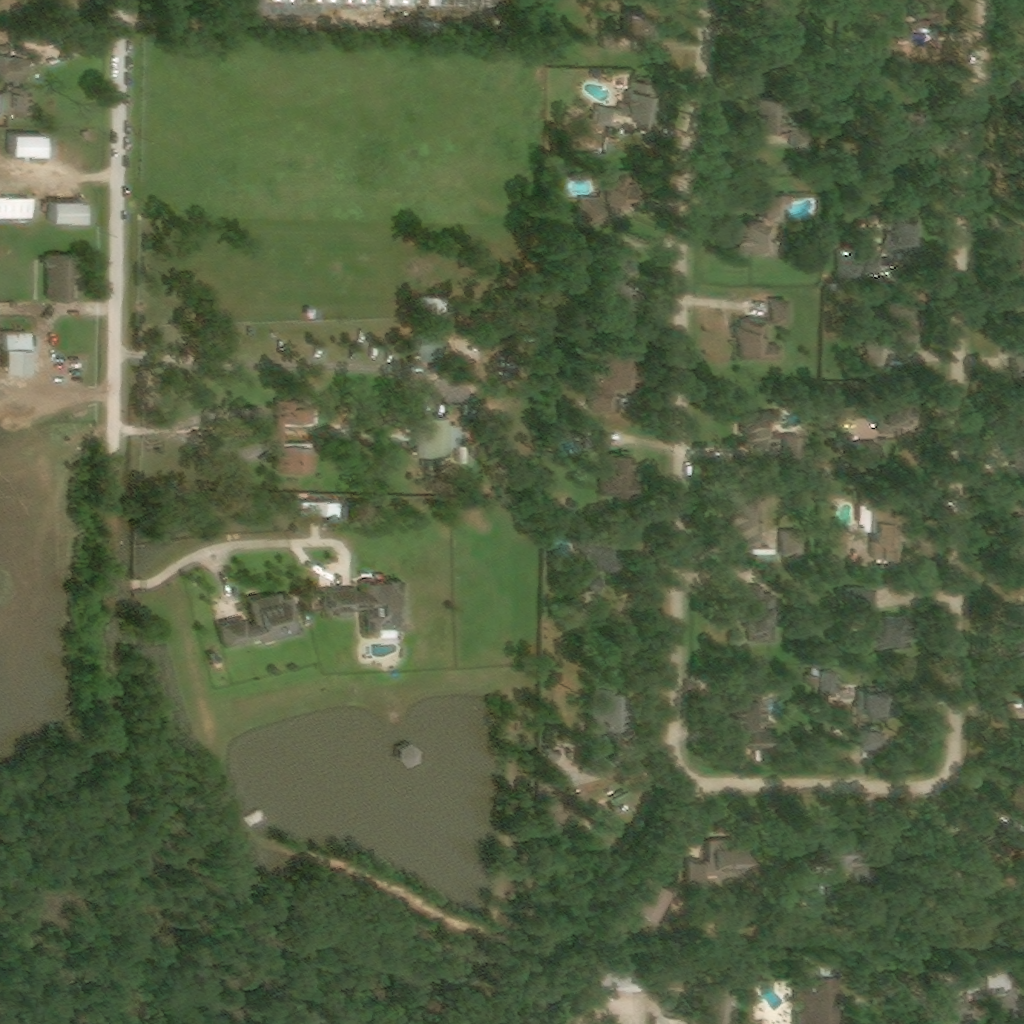destroyed: (248, 811, 268, 829), (408, 623, 420, 636)
major_damage: (399, 743, 423, 769)
no_damage: (318, 578, 409, 640), (838, 215, 914, 284), (217, 592, 302, 649), (810, 828, 881, 892), (840, 589, 910, 653), (568, 180, 648, 231), (733, 193, 795, 255), (866, 304, 921, 373), (592, 81, 656, 140), (797, 949, 846, 1023), (737, 300, 792, 364), (592, 353, 643, 418), (958, 817, 997, 901), (861, 489, 905, 563), (416, 293, 457, 369), (594, 248, 639, 317), (592, 433, 638, 500), (689, 838, 751, 886), (732, 684, 773, 753), (415, 415, 466, 464), (895, 0, 939, 55), (728, 493, 768, 548), (604, 10, 654, 53), (591, 686, 628, 744), (628, 876, 668, 926), (746, 587, 778, 649), (843, 429, 888, 471), (44, 252, 78, 306), (738, 411, 784, 450), (985, 500, 1022, 544), (878, 393, 915, 437), (939, 970, 982, 1007), (579, 533, 616, 576), (755, 92, 789, 137), (3, 330, 32, 377), (572, 734, 602, 778), (277, 401, 322, 430), (277, 444, 314, 479), (596, 965, 640, 994), (0, 46, 29, 88), (0, 90, 34, 121), (0, 198, 36, 227), (12, 134, 48, 162), (52, 202, 89, 229), (1009, 136, 1022, 207), (984, 963, 1010, 998), (966, 909, 995, 940), (706, 987, 730, 1023), (861, 687, 888, 719), (782, 532, 810, 560), (313, 498, 343, 523), (643, 966, 675, 988), (809, 672, 838, 694), (855, 724, 876, 750), (573, 579, 601, 597), (1012, 319, 1022, 368), (266, 426, 288, 448), (788, 438, 806, 464), (794, 128, 811, 152), (613, 791, 633, 807), (848, 56, 868, 71), (753, 548, 777, 560), (839, 691, 858, 706), (594, 815, 608, 835), (457, 445, 470, 466), (211, 653, 220, 666), (304, 588, 314, 599), (1003, 372, 1015, 379)
unclassified: (1006, 606, 1022, 664), (1003, 779, 1022, 827), (1015, 405, 1022, 471), (863, 138, 881, 157), (605, 994, 613, 1021), (485, 0, 503, 8), (428, 0, 444, 8), (330, 0, 345, 8), (345, 0, 360, 8), (388, 0, 403, 8), (457, 0, 472, 8), (274, 0, 288, 8), (288, 0, 302, 8), (360, 0, 374, 8), (303, 0, 316, 8), (316, 0, 329, 8), (375, 0, 388, 8), (415, 0, 428, 8), (444, 0, 457, 8), (403, 0, 415, 8), (472, 0, 484, 8), (87, 135, 95, 146)
